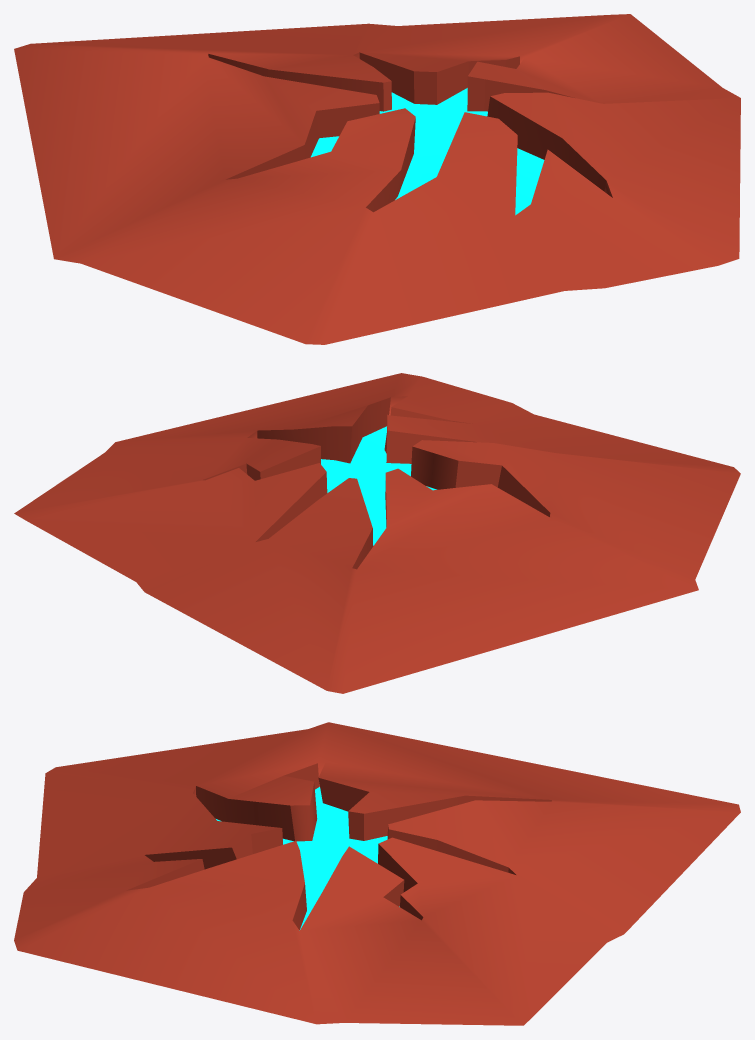
The model's file is SM_Resource_Point_Blockout.fbx.
The picture shows the model from 3 angles, top to bottom: view 1: azimuth 30°, elevation 25°; view 2: azimuth 150°, elevation 25°; view 3: azimuth 270°, elevation 25°; orthographic projection. The views are drawn at different scales.
Parts seen in each view (by area): view 1: Base; view 2: Base; view 3: Base.
Boxes of the visible parts, bbox=[...] form: Base: bbox=[14, 14, 740, 344]; Base: bbox=[14, 373, 740, 693]; Base: bbox=[14, 722, 740, 1025].
Size of the model in its own units: 3.7 by 0.3886 by 3.74.
